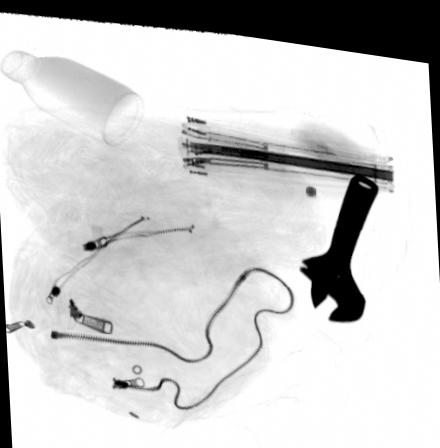Wrench: (303, 160, 381, 312)
